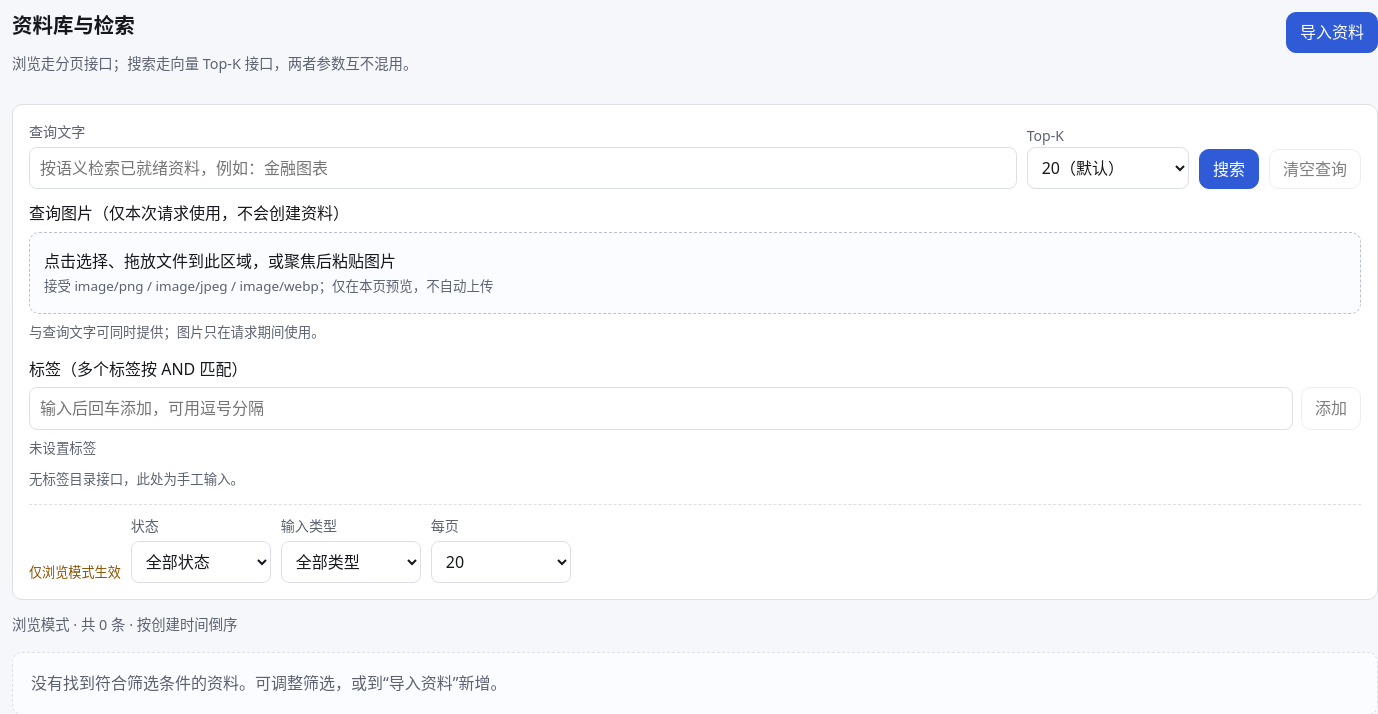
Test: library page › drops a late response from a superseded query instead of overwriting the new result
Check: the text "浏览模式 · 共 0 条 · 按创建时间倒序" is shown, box [12,615,238,634]
In the search field: (523, 168) [29,146,1017,189], type "第一查询"
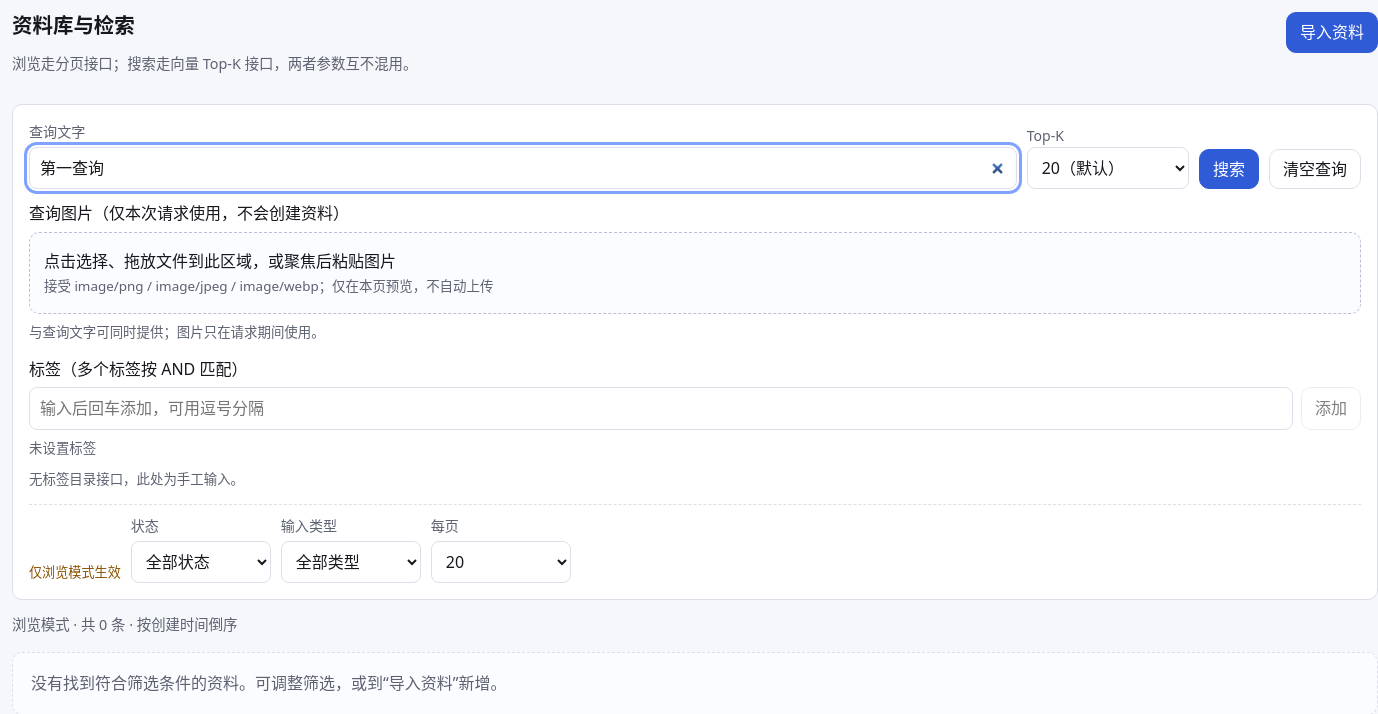
Click the button "搜索": click(1229, 169) [1199,148,1259,189]
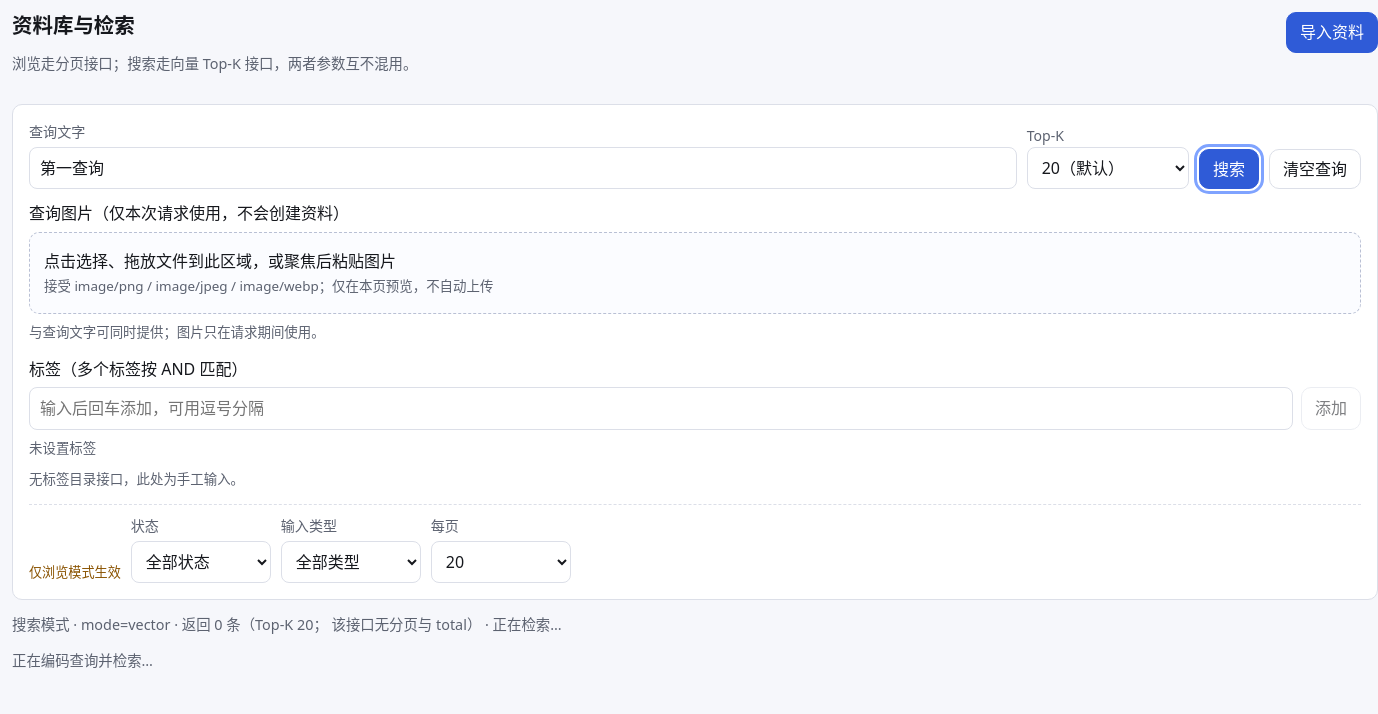
Replace the text in the search field with "第二查询": (523, 168) [29,146,1017,189]
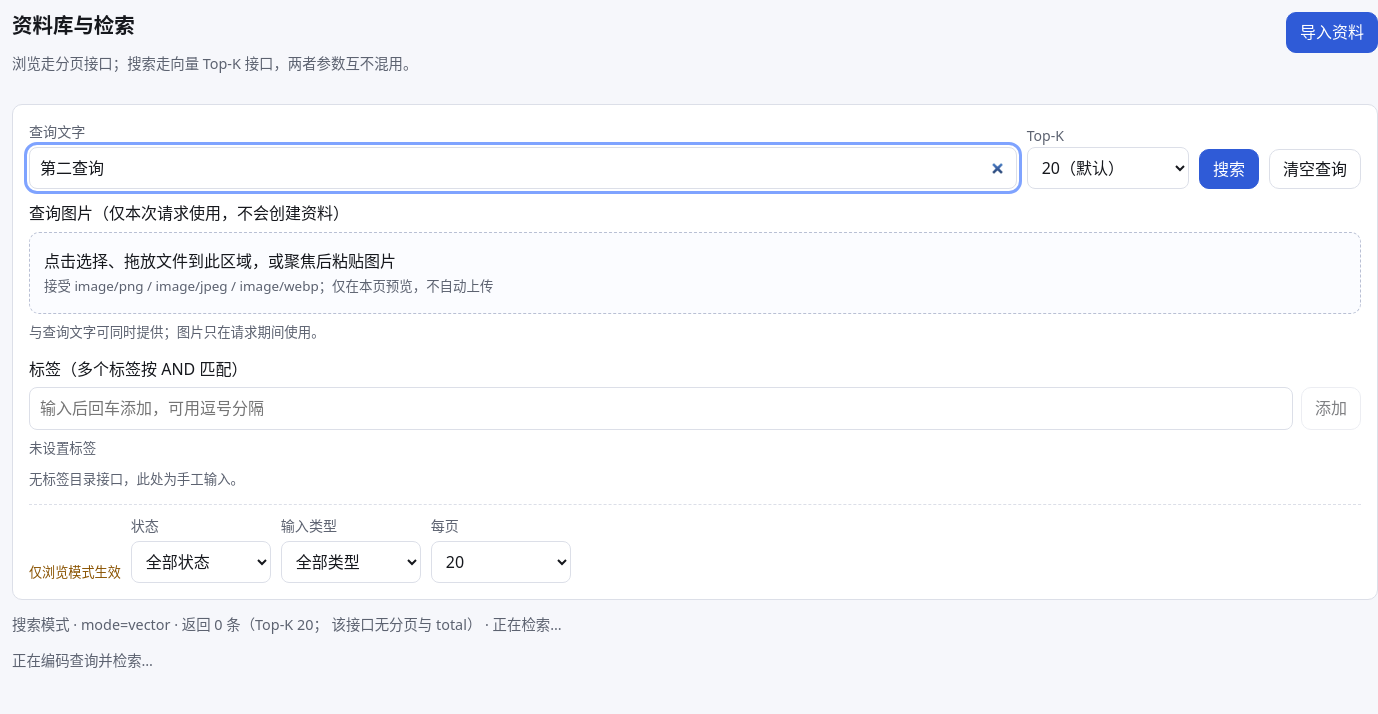
Click the button "搜索": click(1229, 169) [1199,148,1259,189]
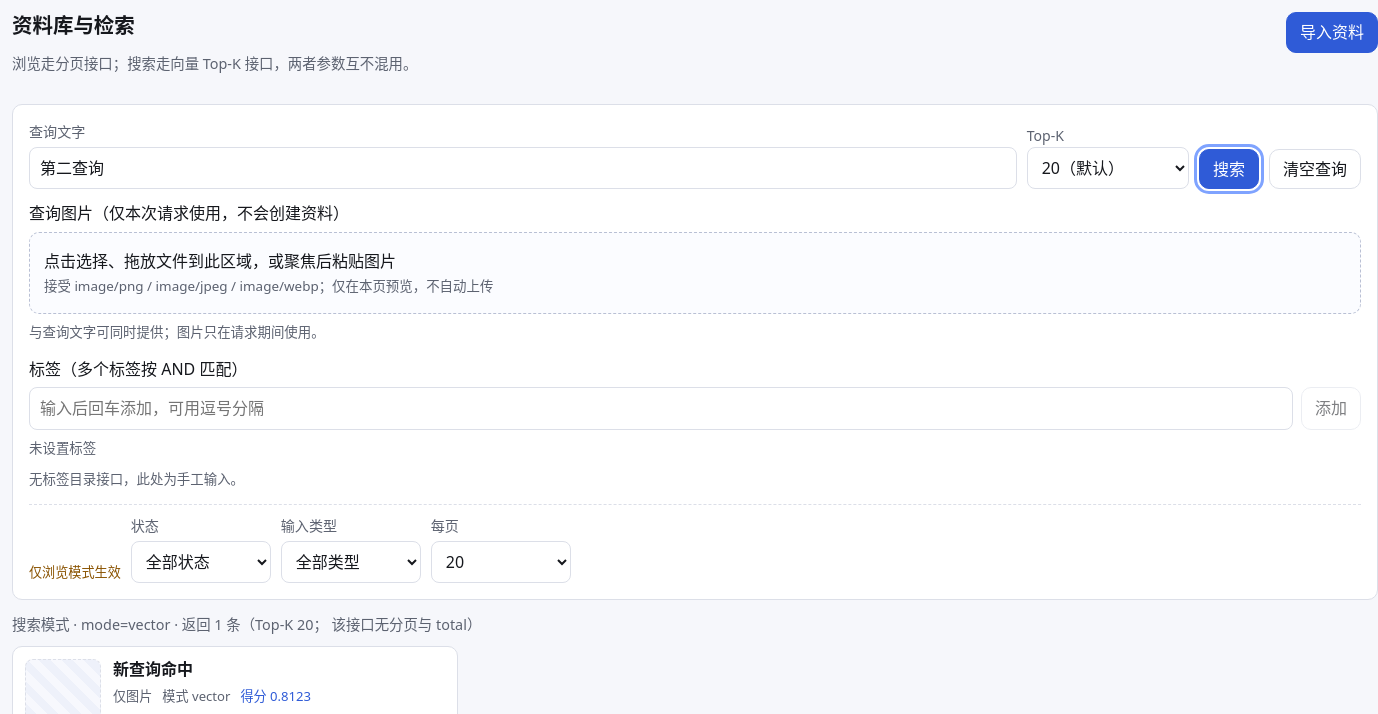
Check: the link "新查询命中" is shown, box [113,658,193,680]
